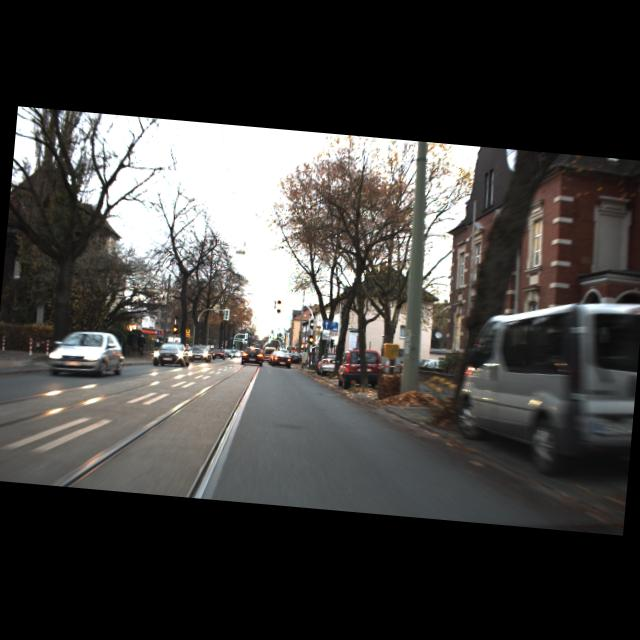mandatory: (322, 318, 332, 329)
